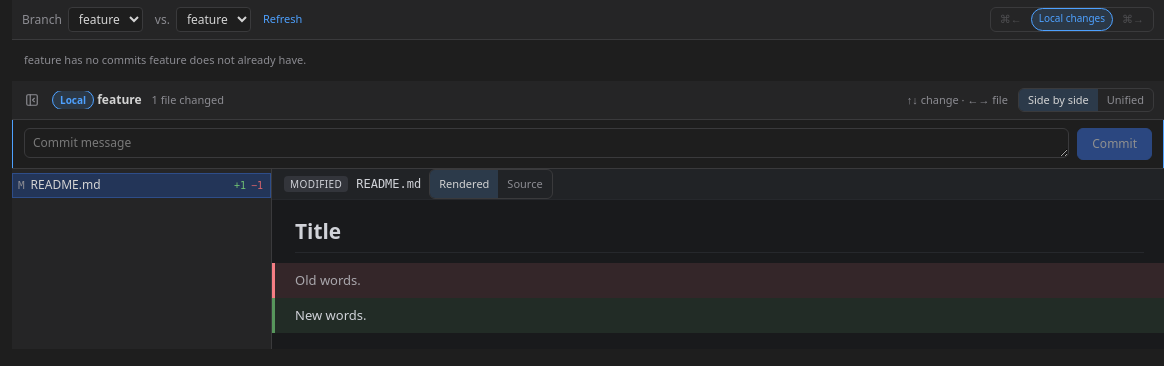
Test case: DiffBrowserView — local changes (the merged tab's default view) › reads a changed Markdown file rendered, what was taken out apart from what came in
Click the button "Source".
click(525, 184)  # box [498,170,552,198]
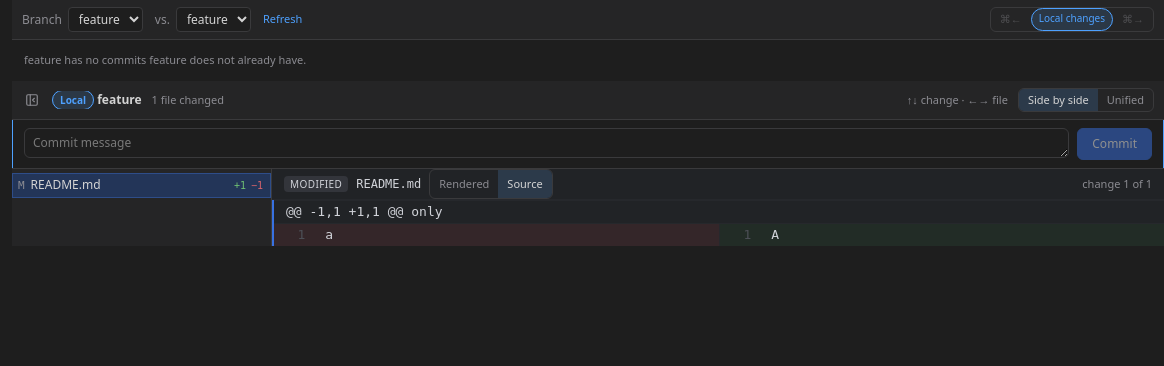
Result: the text "change 1 of 1" is shown at [1082,173,1152,195]
